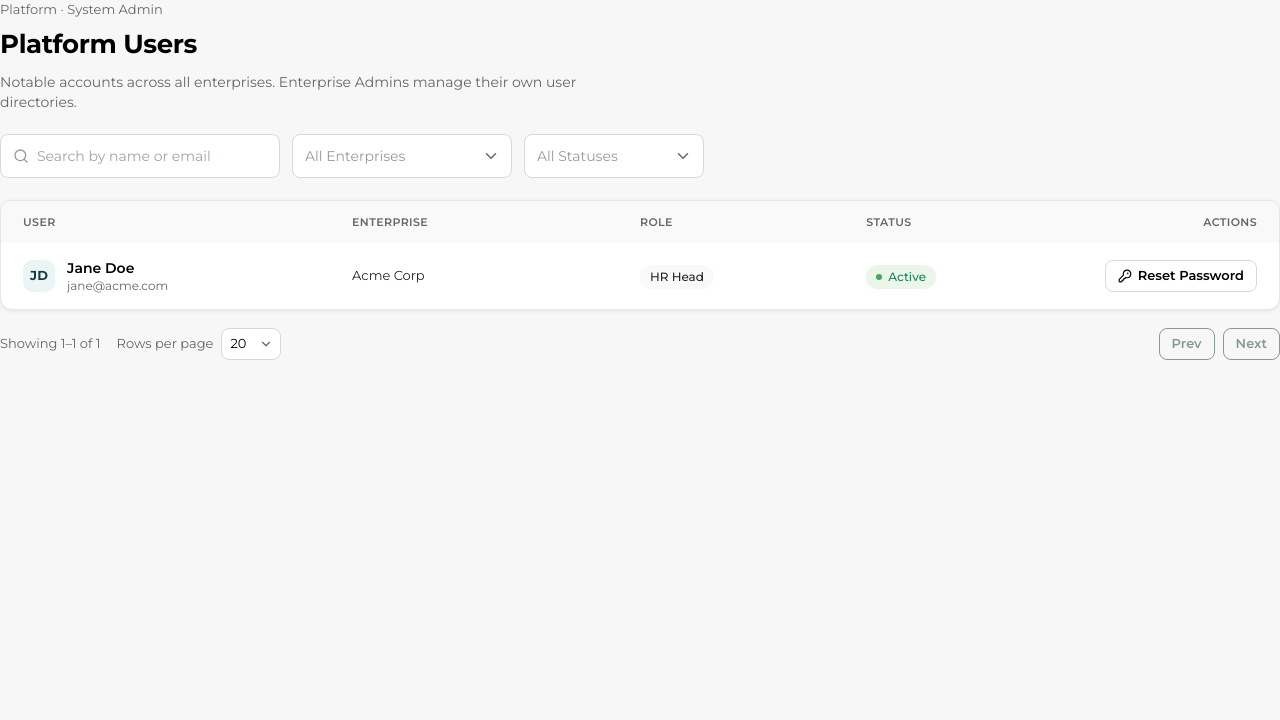
Test: a failed reset surfaces the error inside the confirm dialog and keeps it open
Expected: the text "Jane Doe" is shown, [67,259,134,277]
Click the button "Reset Password".
click(1181, 276)  # box [1105,260,1257,292]
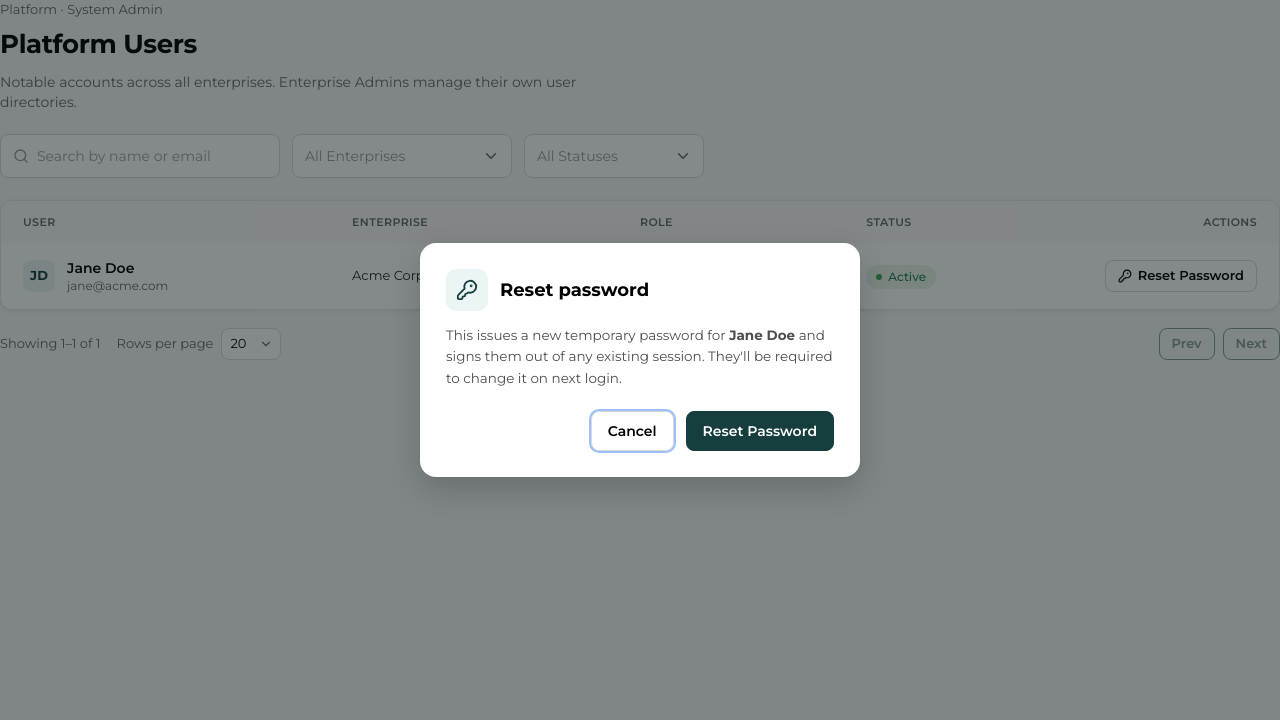
Click the button "Reset Password".
click(760, 431)  # box [686,411,834,451]
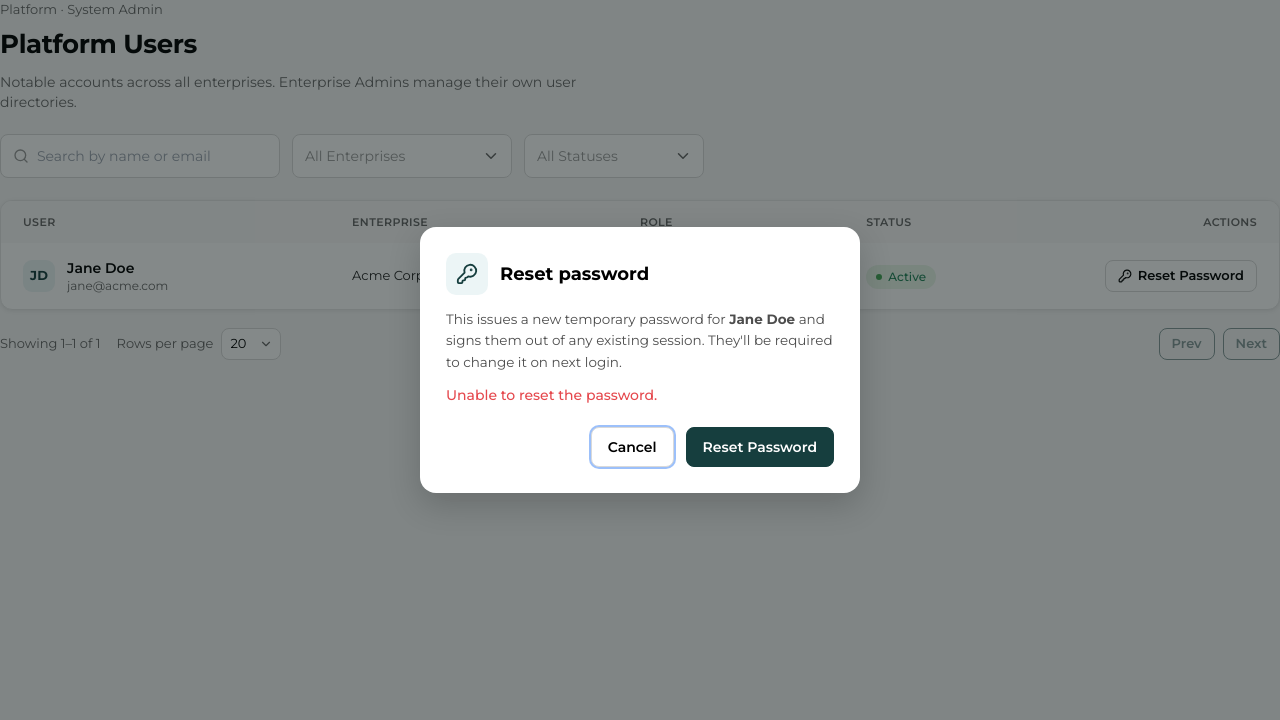
Expected: the dialog is shown, [420,227,860,493]
Expected: the text "Unable to reset the password." is shown, [446,386,657,404]
